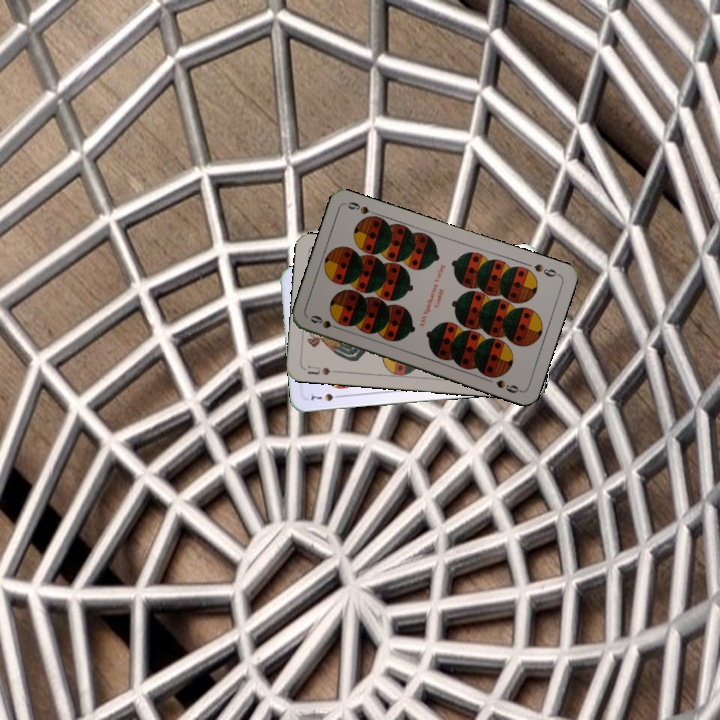S7: (307, 389, 345, 404)
S9: (306, 311, 345, 333), (530, 260, 562, 279)
SU: (303, 361, 341, 378)
